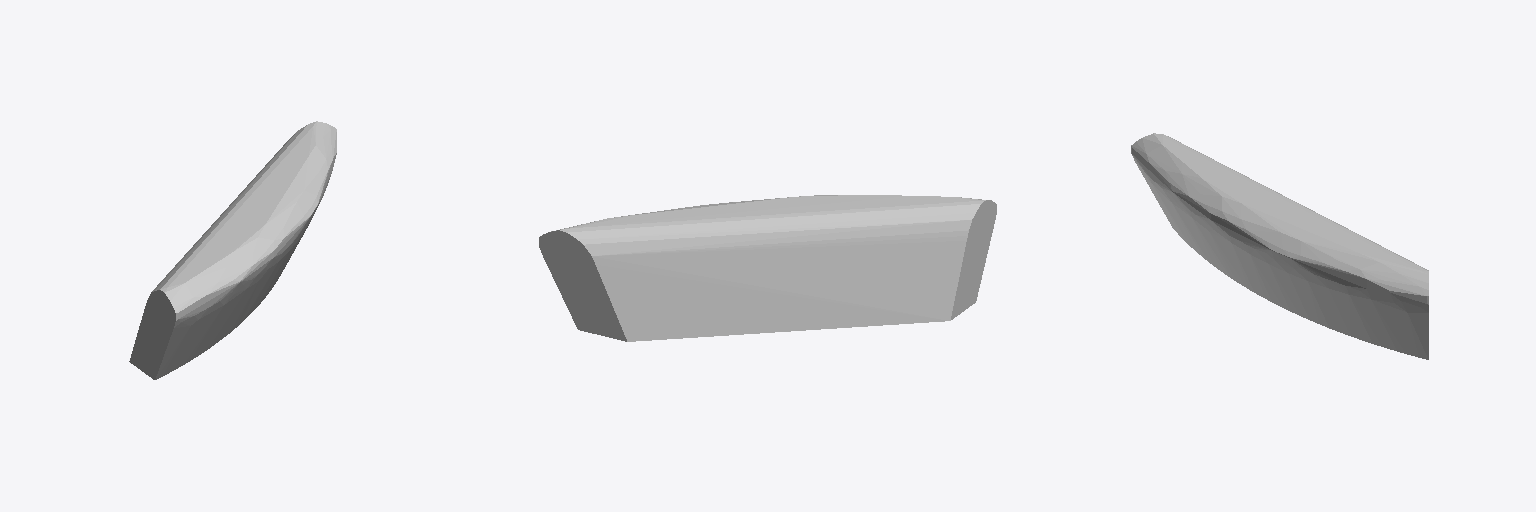
The model's file is skillet_collision_13.obj.
The picture shows the model from 3 angles: view 1: azimuth 30°, elevation 25°; view 2: azimuth 150°, elevation 25°; view 3: azimuth 270°, elevation 25°; orthographic projection.
Bounding box in the file's own units: 0.0583 × 0.0172 × 0.0486.